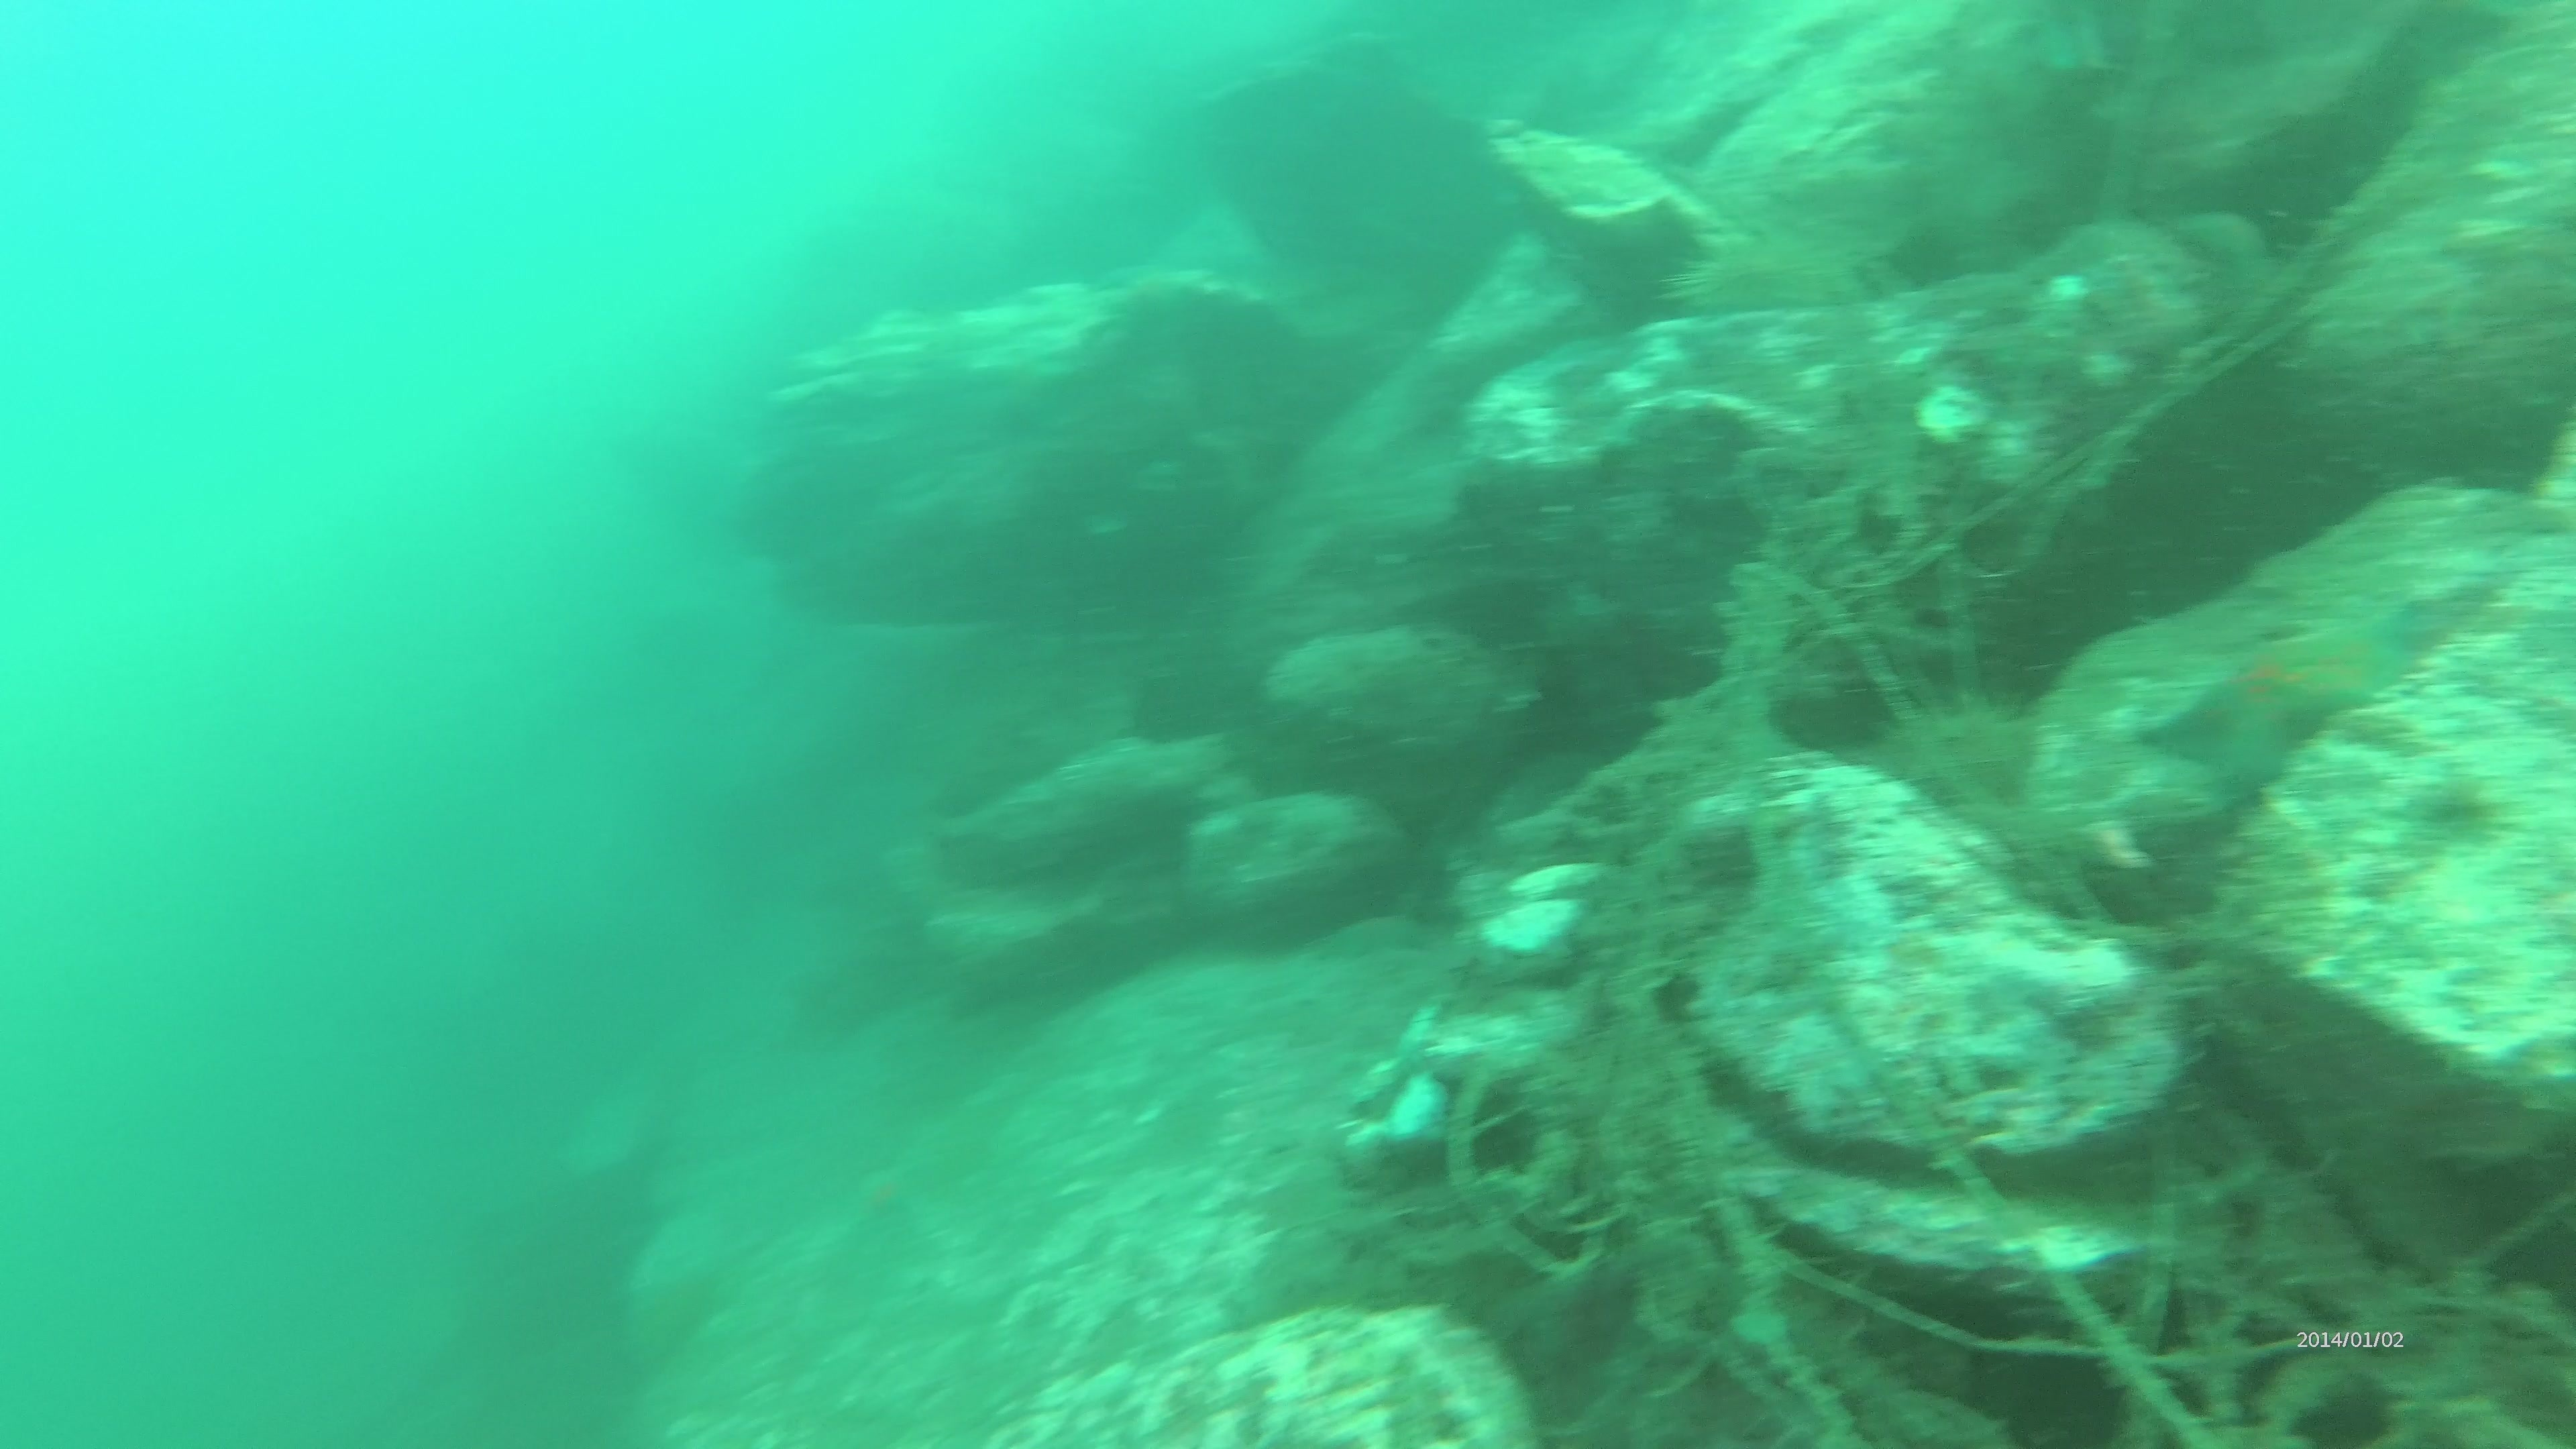starfish: (2132, 591, 2440, 800)
